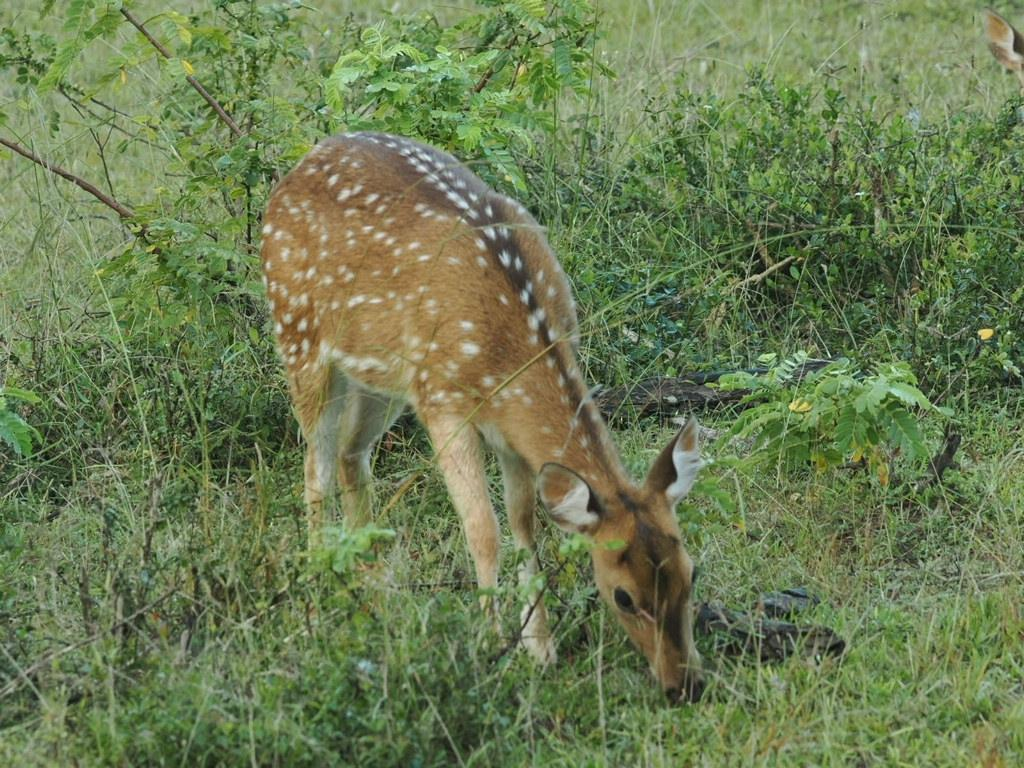Deer: (263, 132, 701, 700)
